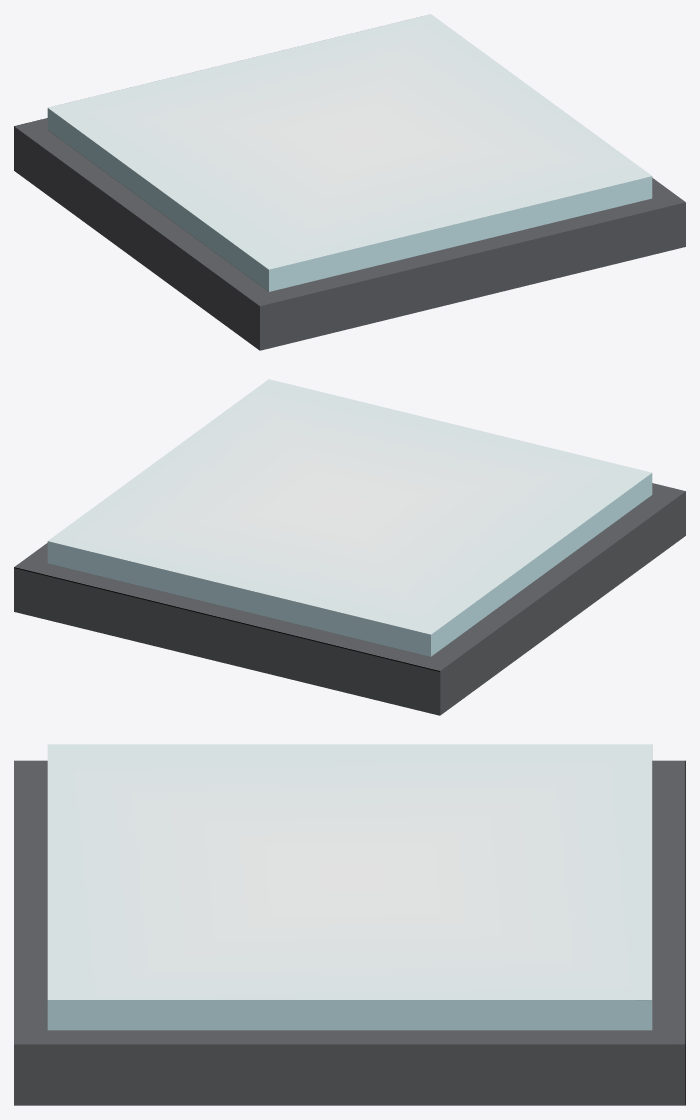
Rendered from Lámpara.FBX.
The picture shows the model from 3 angles, top to bottom: view 1: azimuth 30°, elevation 25°; view 2: azimuth 150°, elevation 25°; view 3: azimuth 270°, elevation 25°; orthographic projection. The views are drawn at different scales.
Visible parts, largest first — view 1: Box001; view 2: Box001; view 3: Box001.
Part boxes in pixels (left/top/right/bottom): Box001: left=14, top=14, right=685, bottom=350; Box001: left=14, top=379, right=685, bottom=715; Box001: left=14, top=744, right=685, bottom=1105.
Size of the model in its own units: 50 by 7.5 by 50.
1 material, 1 textured.
